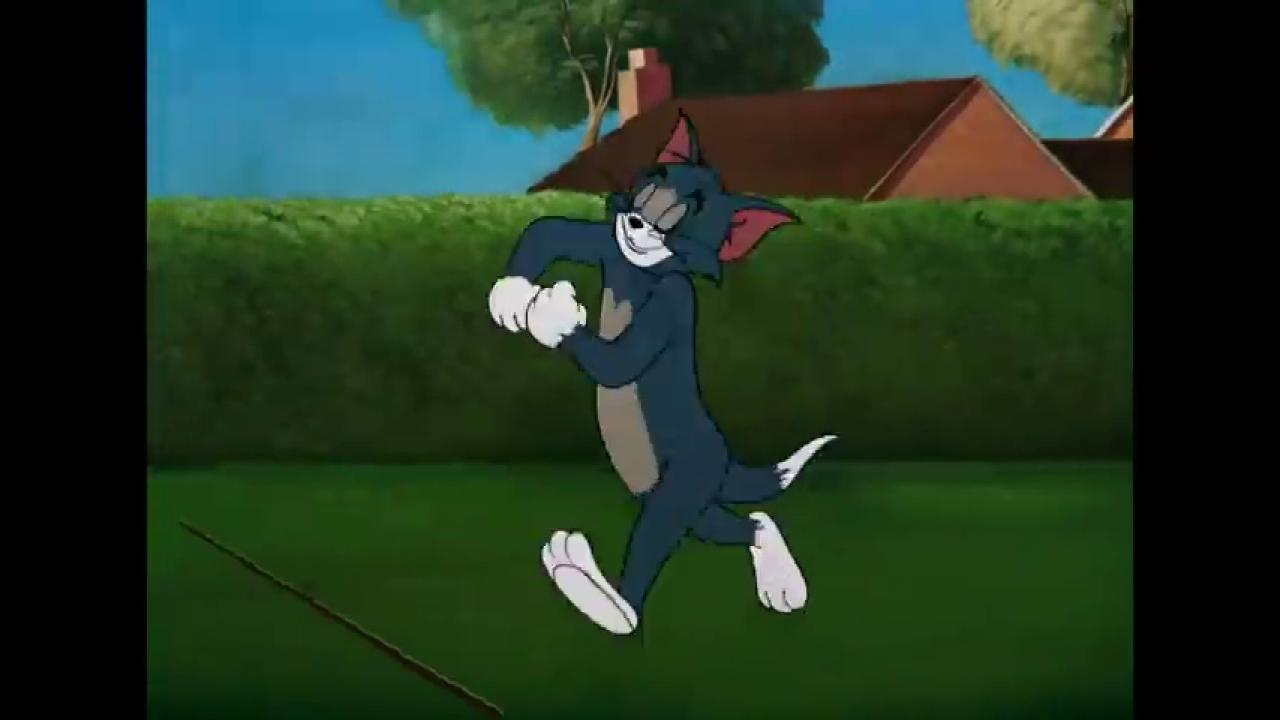Tom: (485, 106, 841, 636)
